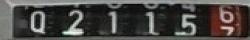digits: (30, 10, 45, 34), (68, 10, 84, 32), (144, 10, 157, 35), (182, 13, 196, 35), (218, 5, 234, 23), (108, 10, 120, 34)
